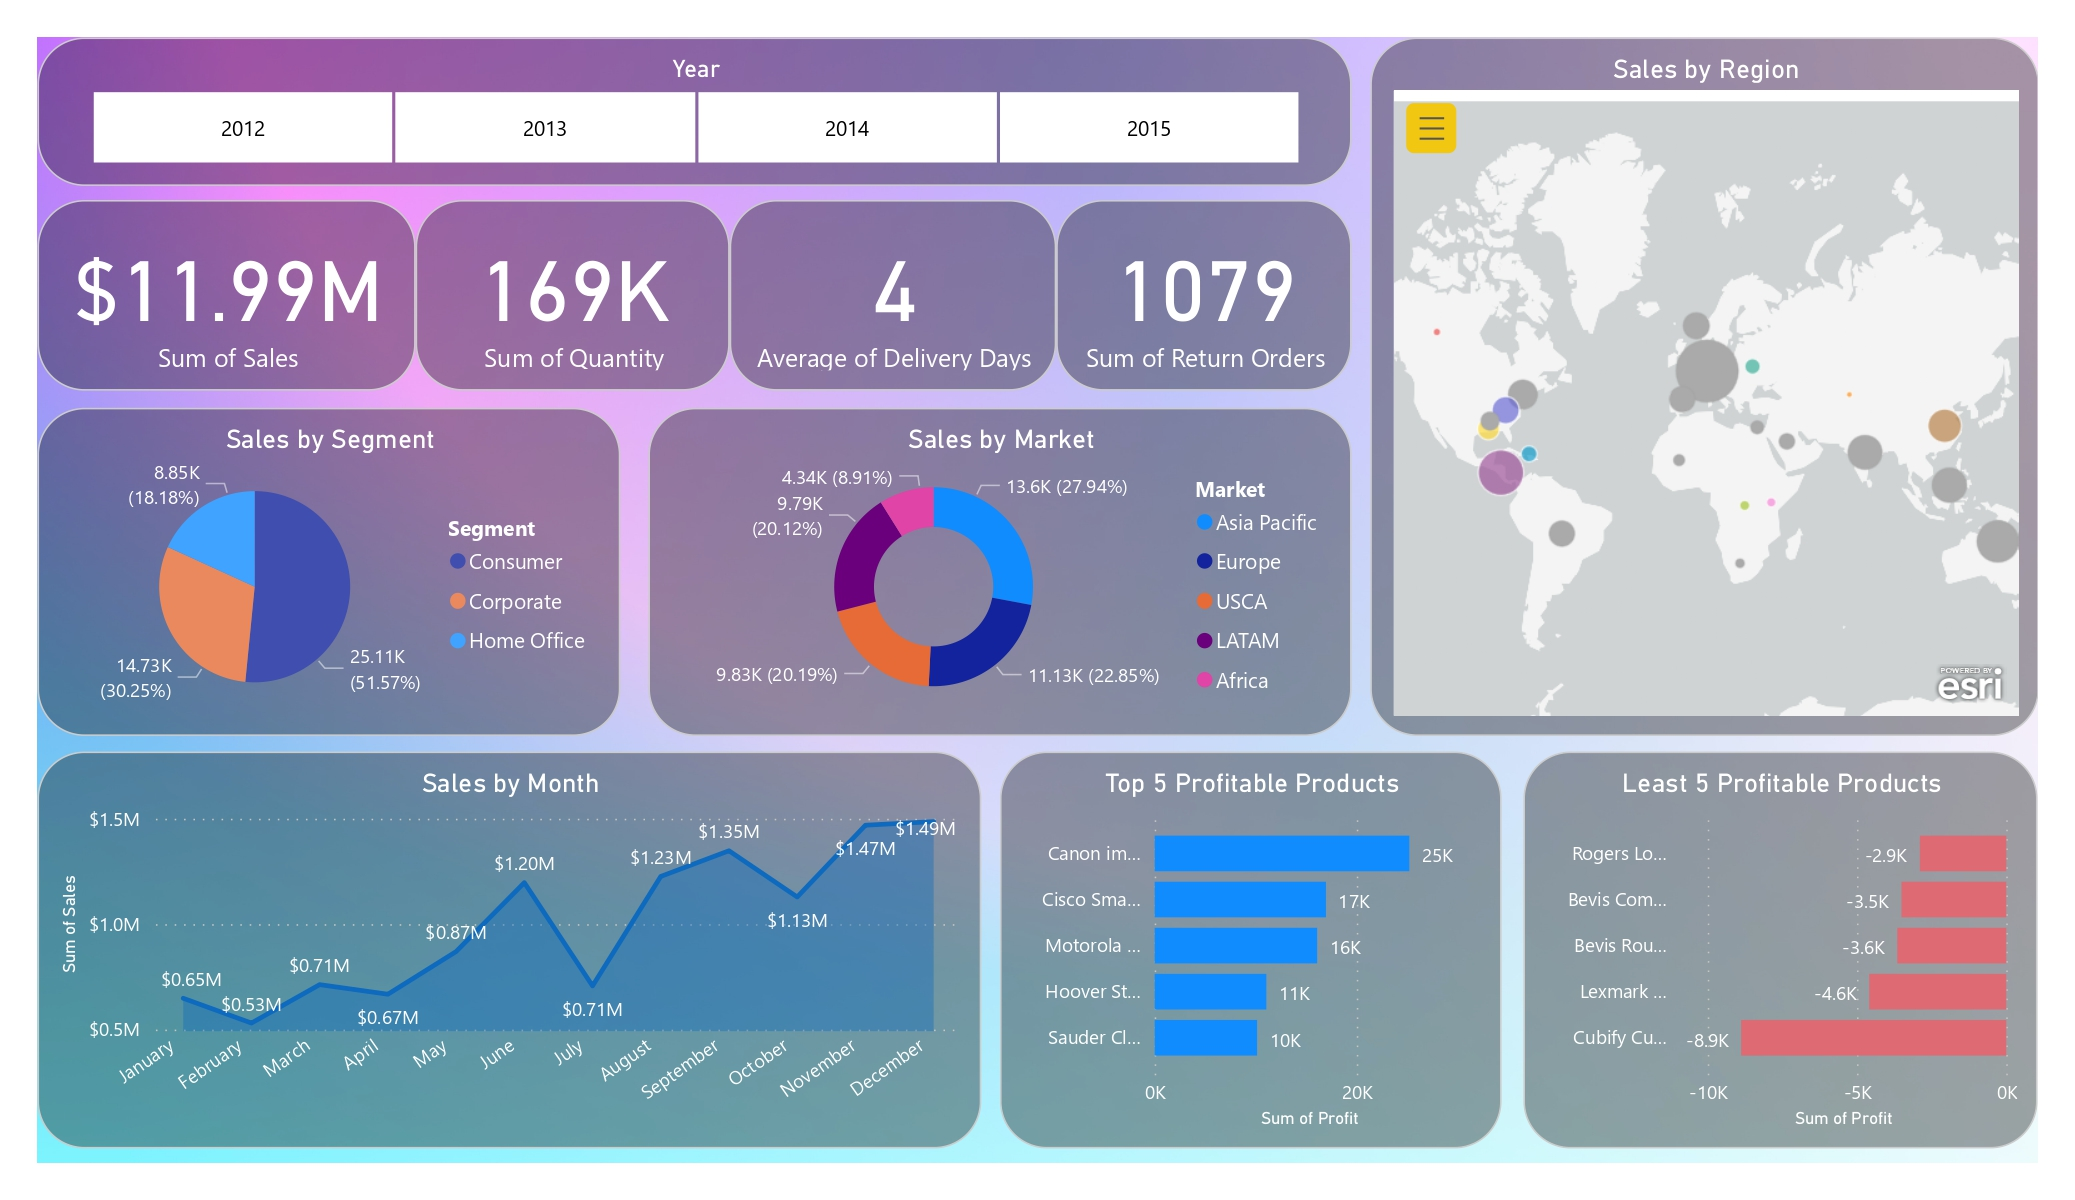

This screenshot's page, from the dashboard's own definition file:
{"tool":"powerbi","page":{"name":"Page 1","canvas":[1280,720],"ordinal":0},"visuals":[{"type":"card","fields":{"Values":["Sum(Orders.Sales)"]},"box":[0,104.3,241.5,122.1],"z":0},{"type":"card","fields":{"Values":["Sum(Orders.Quantity)"]},"box":[241.5,104.3,201.7,122.1],"z":1000},{"type":"card","fields":{"Values":["Avg(Orders.Delivery Days)"]},"box":[443.2,104.3,208.6,122.1],"z":2000},{"type":"slicer","title":"Year","fields":{"Values":["Orders.Year"]},"box":[0,0,841.4,95.2],"z":3000},{"type":"card","fields":{"Values":["Sum(Returns.Return Orders)"]},"box":[651.8,104.3,189.4,122.1],"z":4000},{"type":"esriVisual","title":"Sales by Region","fields":{"Location":["Orders.Region"],"Size":["Sum(Orders.Sales)"],"Color":["Orders.Region"]},"box":[853.3,0,427.2,447.5],"z":5000},{"type":"clusteredBarChart","title":"Top 5 Profitable Products","fields":{"Category":["Orders.Product Name"],"Y":["Sum(Orders.Profit)"]},"box":[616.1,456.9,321.1,253.9],"z":6000},{"type":"clusteredBarChart","title":"Least 5 Profitable Products","fields":{"Category":["Orders.Product Name"],"Y":["Sum(Orders.Profit)"]},"box":[950.9,456.9,329.3,253.9],"z":7000},{"type":"pieChart","title":"Sales by Segment","fields":{"Category":["Orders.Segment"],"Y":["CountNonNull(Orders.Segment)"]},"box":[0,237.4,373.2,209.9],"z":8000},{"type":"donutChart","title":"Sales by Market","fields":{"Y":["CountNonNull(Orders.Market)"],"Category":["Orders.Market"]},"box":[391.1,237.4,450.1,209.9],"z":9000},{"type":"areaChart","title":"Sales by Month","fields":{"Category":["Orders.Order Date.Variation.Date Hierarchy.Month"],"Y":["Sum(Orders.Sales)"]},"box":[0,456.9,603.8,253.9],"z":10000}]}

Visuals, with their boxes in screenshot pixels (x1, y1, x2, y2):
card - Sum(Orders.Sales): x1=38 y1=200 x2=415 y2=391
card - Sum(Orders.Quantity): x1=415 y1=200 x2=730 y2=391
card - Avg(Orders.Delivery Days): x1=730 y1=200 x2=1056 y2=391
"Year" slicer: x1=38 y1=38 x2=1352 y2=186
card - Sum(Returns.Return Orders): x1=1056 y1=200 x2=1352 y2=391
"Sales by Region" esriVisual: x1=1371 y1=38 x2=2038 y2=737
"Top 5 Profitable Products" clusteredBarChart: x1=1000 y1=751 x2=1502 y2=1148
"Least 5 Profitable Products" clusteredBarChart: x1=1523 y1=751 x2=2038 y2=1148
"Sales by Segment" pieChart: x1=38 y1=408 x2=621 y2=736
"Sales by Market" donutChart: x1=649 y1=408 x2=1352 y2=736
"Sales by Month" areaChart: x1=38 y1=751 x2=981 y2=1148
